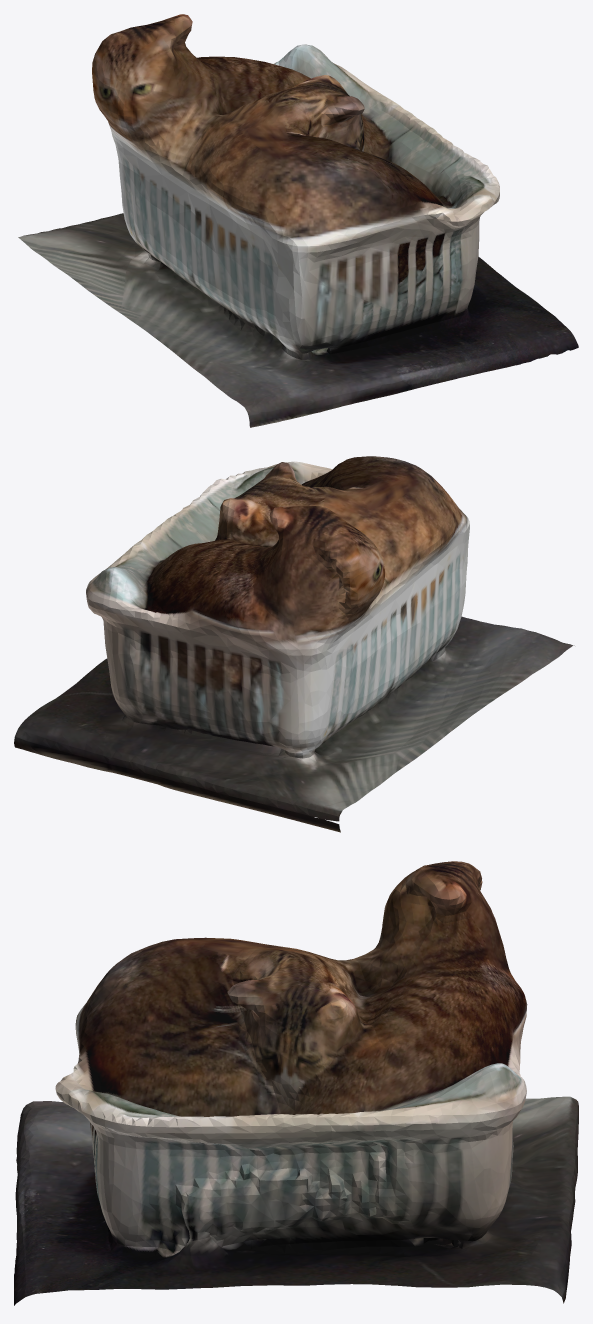
The model's file is cats.glb.
3 renders of one model, top to bottom at view 1: azimuth 30°, elevation 25°; view 2: azimuth 150°, elevation 25°; view 3: azimuth 270°, elevation 25°, orthographic. The views are drawn at different scales.
Parts seen in each view (by area): view 1: mesh; view 2: mesh; view 3: mesh.
Part boxes in pixels (bbox=[...]): mesh: bbox=[18, 14, 578, 427]; mesh: bbox=[14, 456, 574, 832]; mesh: bbox=[14, 861, 578, 1305].
Bounding box in the file's own units: 0.372 × 0.2774 × 0.4709.
1 material, 1 textured.
